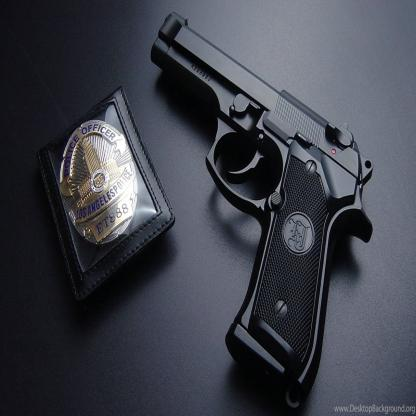handgun: (151, 10, 372, 416)
